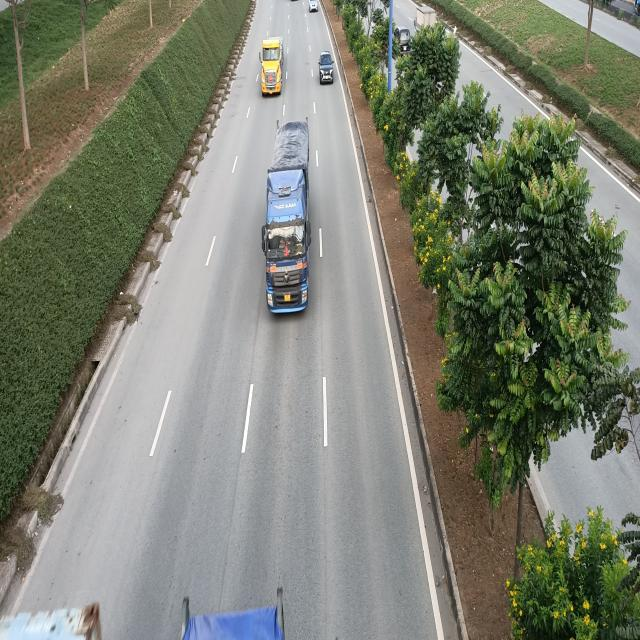car: (318, 51, 334, 84)
container: (260, 33, 283, 97)
truck: (263, 119, 312, 312)
